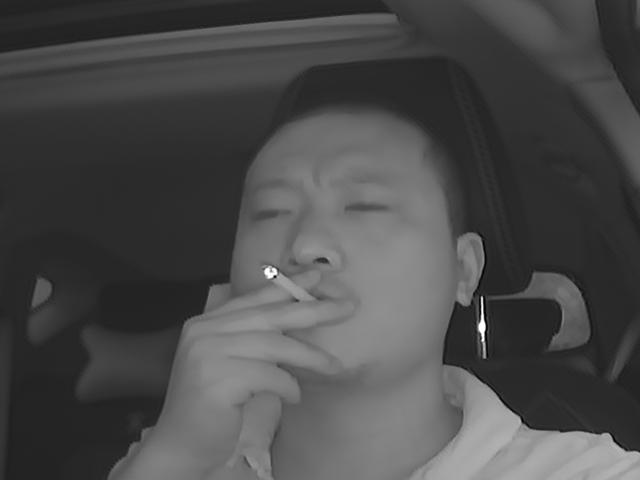hand: (198, 264, 355, 422)
